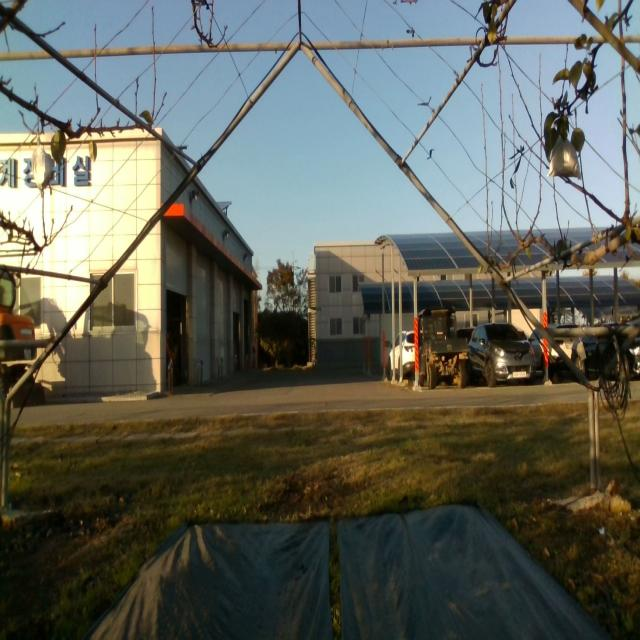pearbags: (546, 131, 582, 181), (31, 139, 54, 197)
